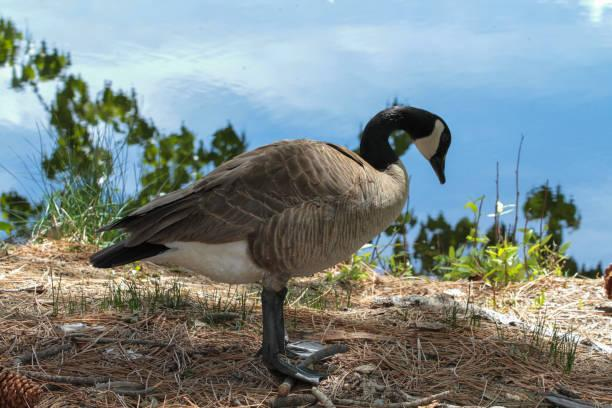Canadian-Goose: (95, 102, 456, 390)
